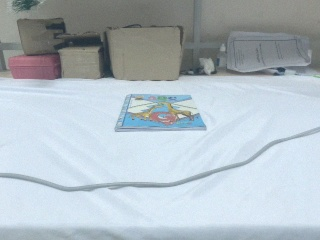book: (113, 92, 208, 129)
box: (106, 23, 183, 81), (57, 32, 110, 79), (16, 16, 70, 56)
